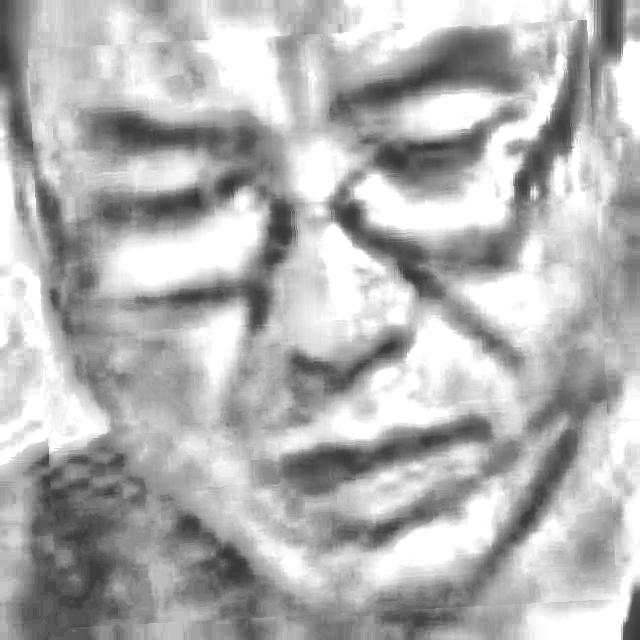angry: (36, 27, 610, 621)
